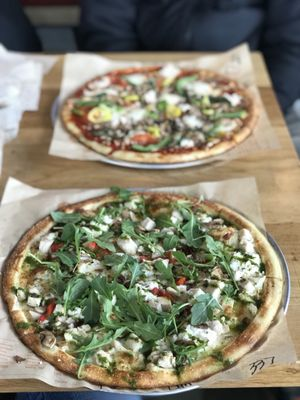curry: (0, 28, 300, 392)
sandwich: (1, 189, 285, 390), (59, 63, 259, 163)
